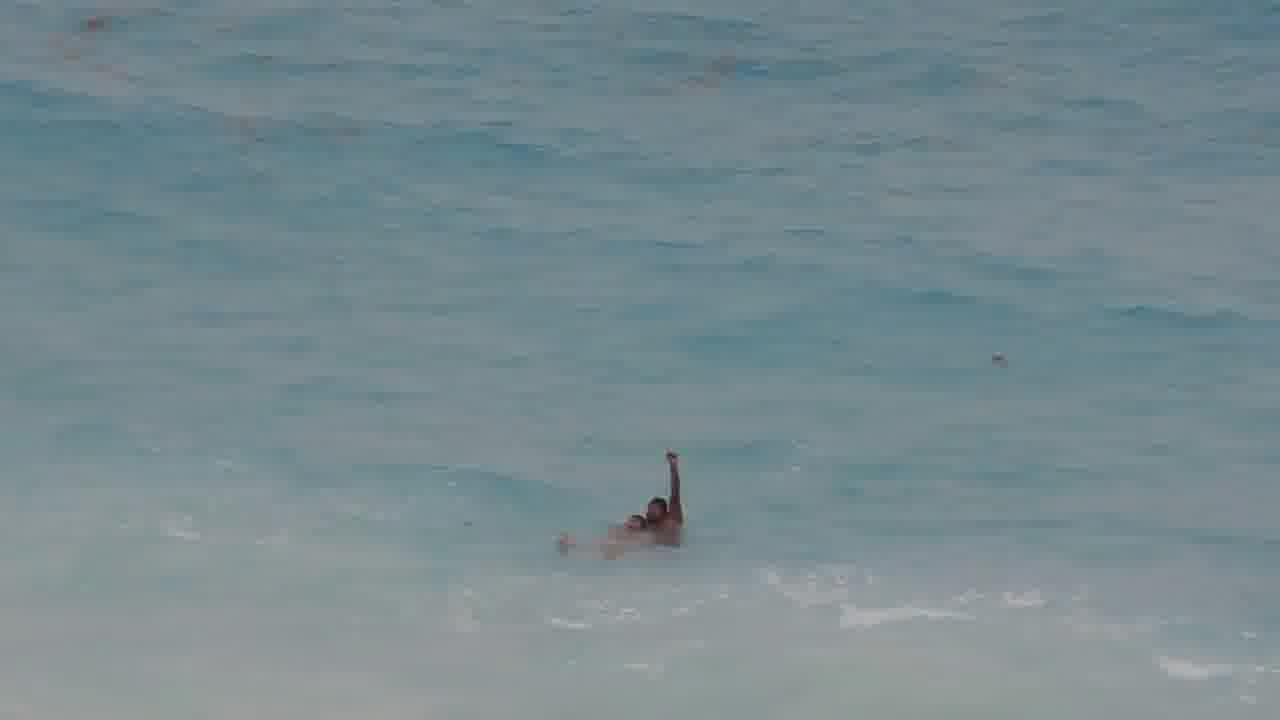swimmer: (643, 481, 672, 538), (624, 504, 638, 529)
